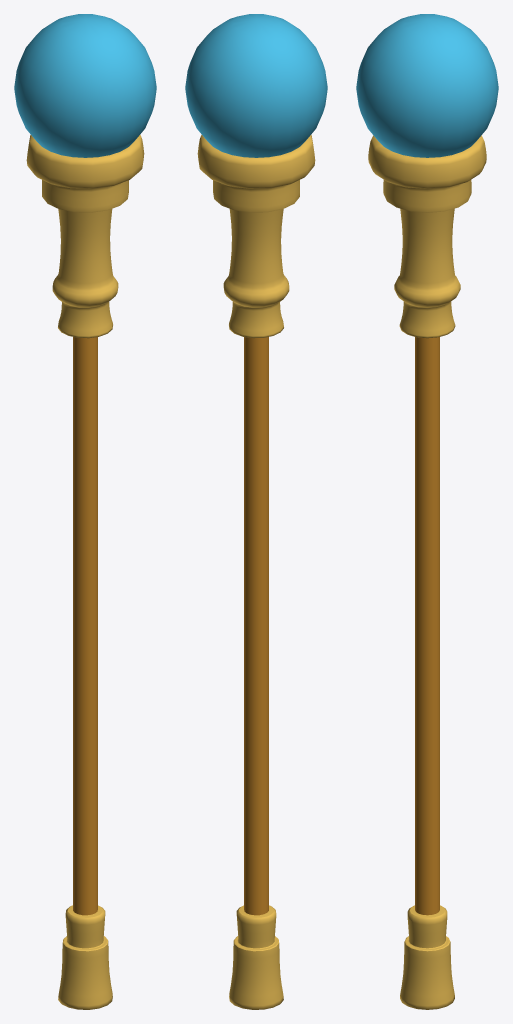
File: Asa_1.fbx
3 views of the same model, side by side, from view 1: azimuth 30°, elevation 25°; view 2: azimuth 150°, elevation 25°; view 3: azimuth 270°, elevation 25° (orthographic).
Parts seen in each view (by area): view 1: Court staff_ex; view 2: Court staff_ex; view 3: Court staff_ex.
Part boxes in pixels (x1,y1,x2,y2): Court staff_ex: (14,14,156,1009); Court staff_ex: (185,14,327,1009); Court staff_ex: (356,14,498,1009).
Bounding box in the file's own units: 26.97 × 204 × 26.97.
